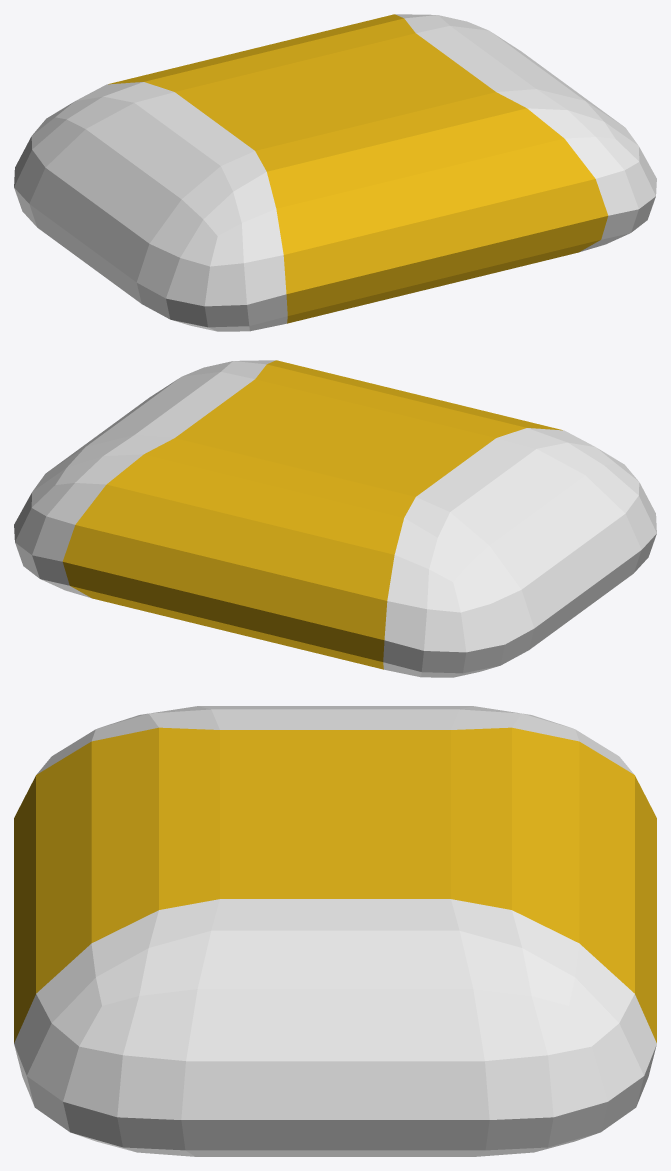
Rendered from Cement Bag A.fbx.
3 views of the same model, one above another, from view 1: azimuth 30°, elevation 25°; view 2: azimuth 150°, elevation 25°; view 3: azimuth 270°, elevation 25° (orthographic). The views are drawn at different scales.
Visible parts, largest first — view 1: Cement Bag A; view 2: Cement Bag A; view 3: Cement Bag A.
Boxes of the visible parts, <box> form: Cement Bag A: <box>14,14,656,331</box>; Cement Bag A: <box>14,360,656,677</box>; Cement Bag A: <box>14,706,656,1156</box>.
Bounding box in the file's own units: 139 × 35.89 × 107.
